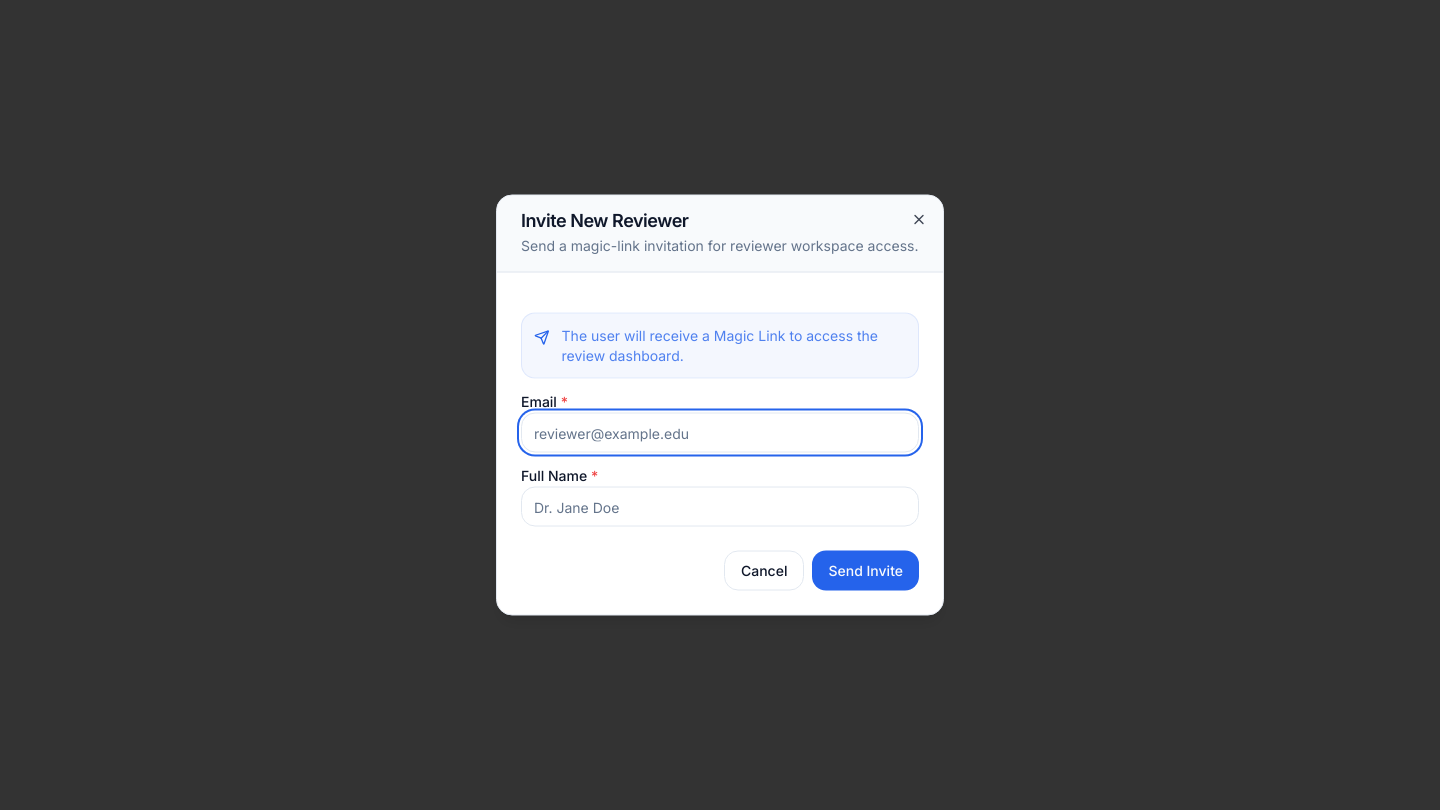
Test case: InviteReviewerDialog › handles submission error
The width and height of the screenshot is (1440, 810).
Type "test@example.com" into the field with placeholder "reviewer@example.edu". click: point(720, 432)
box: [521,412,919,452]
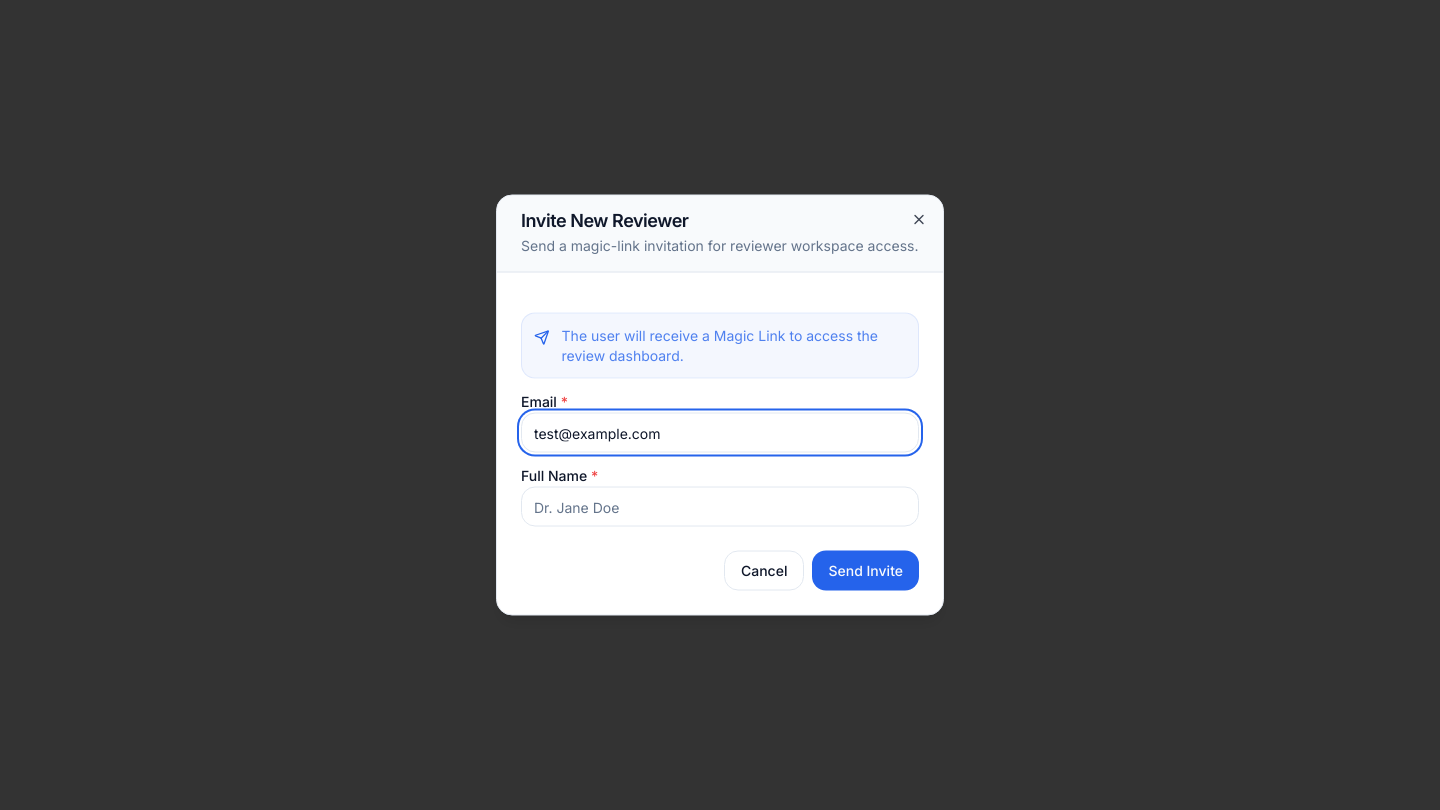
Type "John Doe" into the field with placeholder "Dr. Jane Doe". click: point(720, 506)
box: [521,486,919,526]
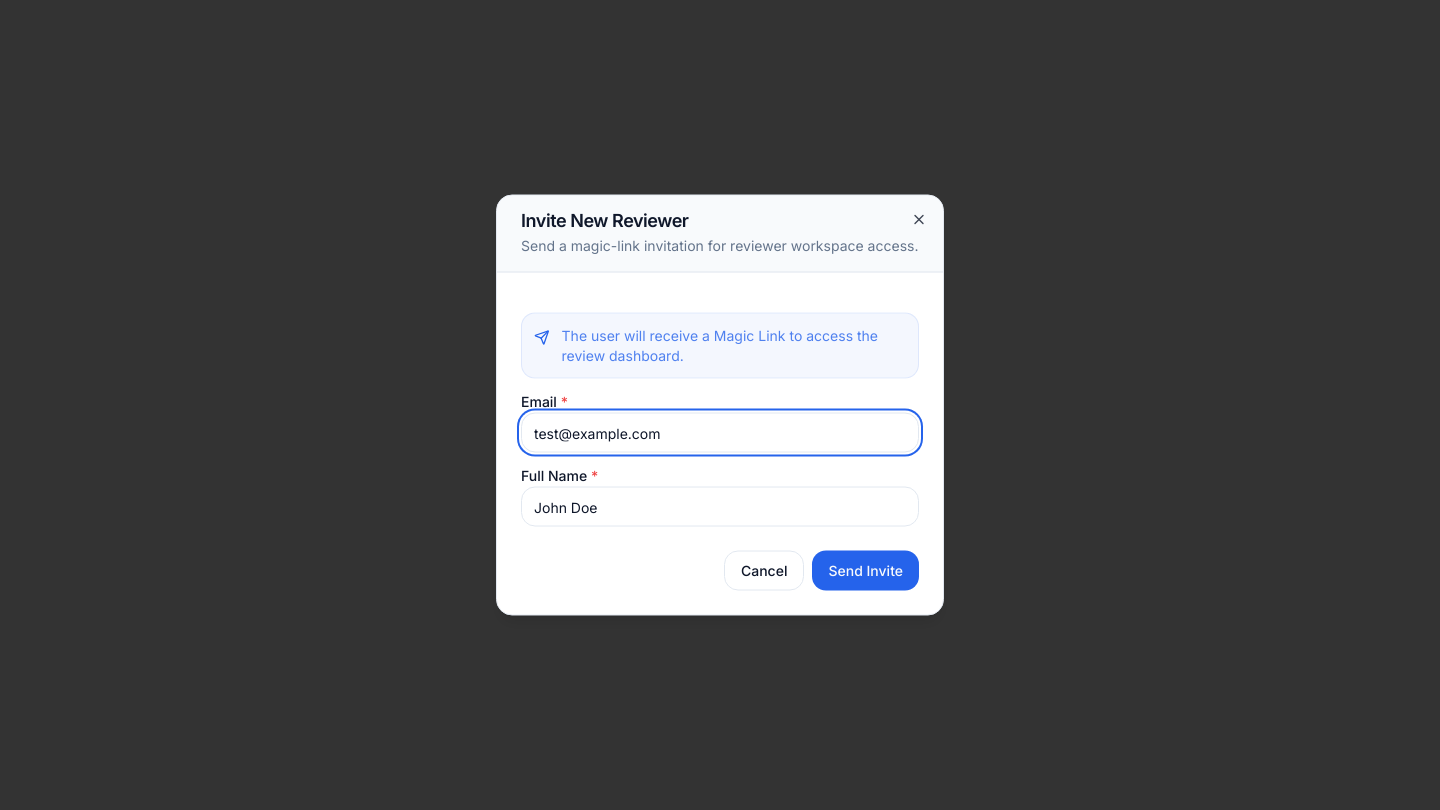
Click the button "Send Invite". click: point(866, 570)
box: [812,550,919,590]
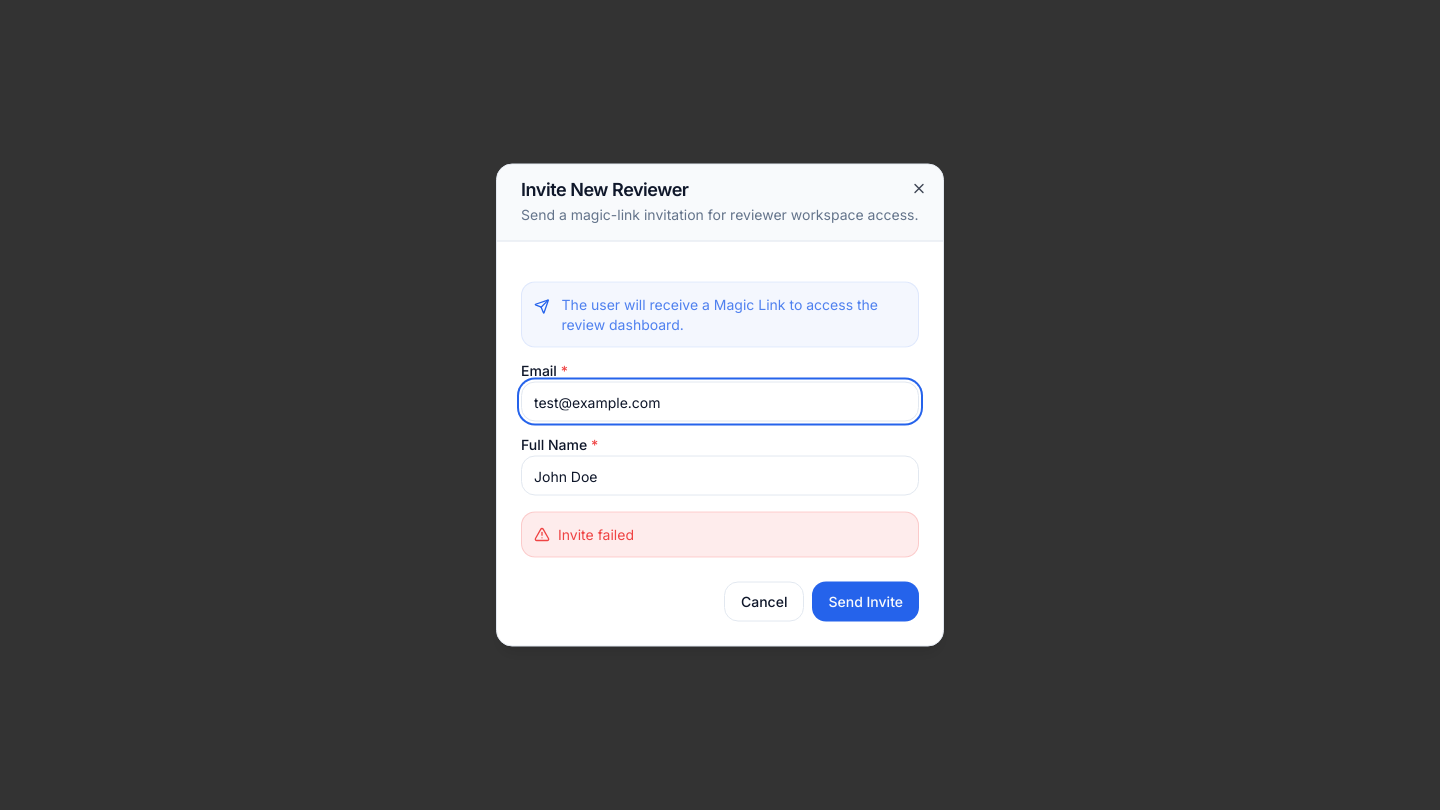
Expected: the text "Invite failed" is shown, [521,512,919,558]
